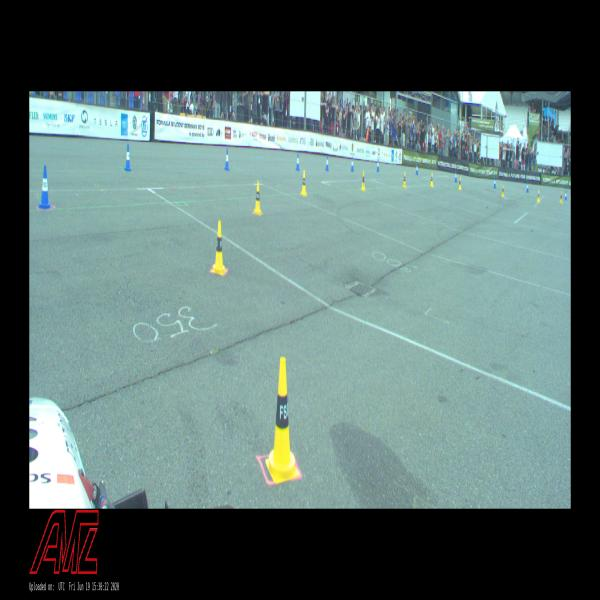blue_cone: (38, 166, 51, 208), (125, 145, 131, 171), (225, 148, 230, 171), (296, 153, 300, 170), (325, 155, 329, 170), (493, 177, 496, 188), (454, 171, 457, 182), (351, 156, 353, 171), (526, 182, 529, 192), (564, 190, 567, 200), (377, 158, 379, 172), (416, 163, 418, 174)
yellow_cone: (265, 358, 298, 482), (211, 220, 226, 276), (253, 182, 262, 215), (300, 170, 306, 196), (361, 171, 365, 190), (402, 171, 406, 188), (430, 173, 433, 186), (459, 177, 462, 189), (537, 191, 540, 202), (560, 192, 562, 203), (502, 186, 504, 196)
